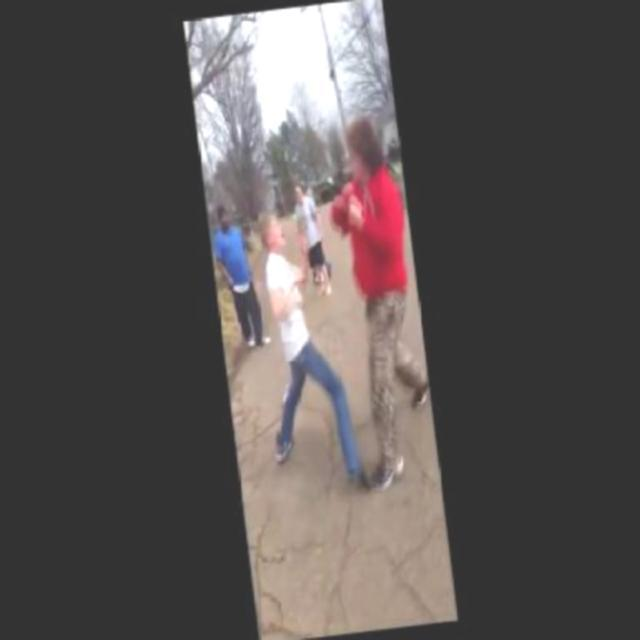fight: (248, 117, 416, 348)
non-fight: (211, 194, 271, 346), (290, 170, 332, 295)
